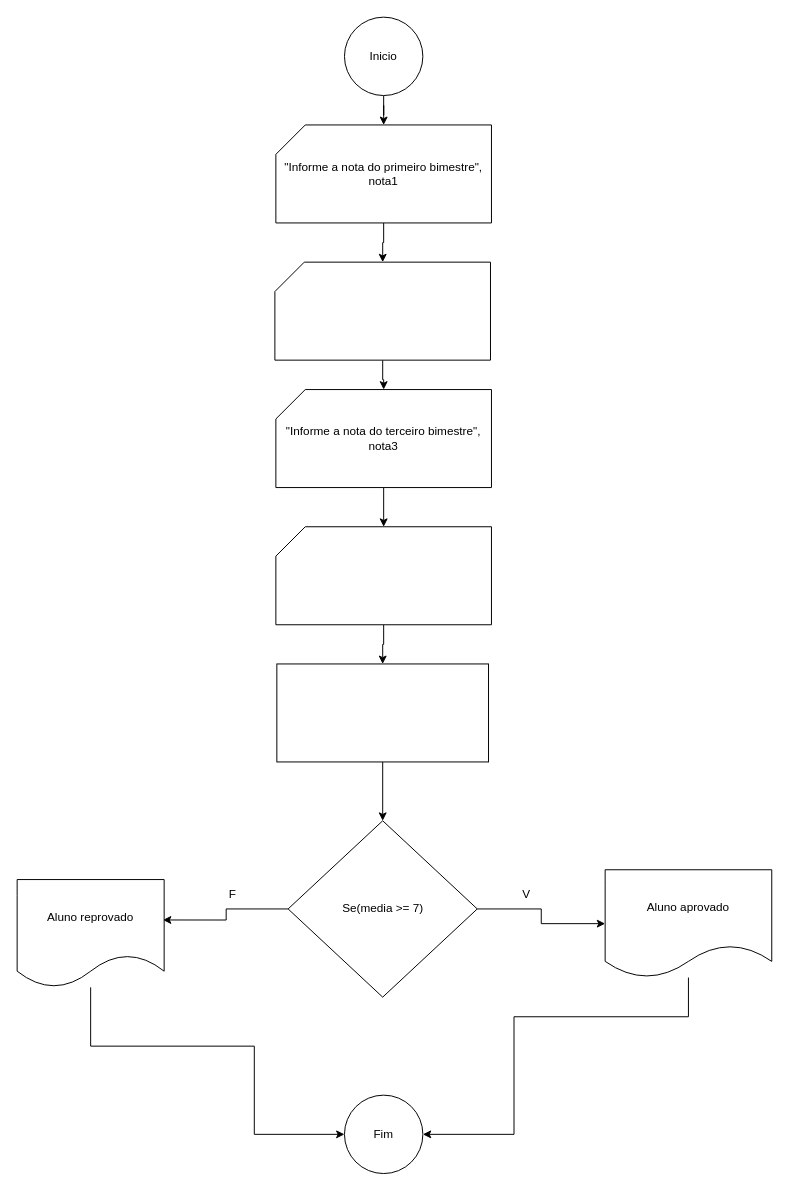
This 789x1191 diagram has some shape labels left out. The shapes that lost their labels are listed below. From the top down, each one's centre as x and y in pixels, then its label:
(x=382, y=310): "Informe a nota do segundo bimestre", nota2
(x=383, y=575): "Informe a nota do quarto bimestre", nota4
(x=382, y=712): media = (nota1+nota2+nota3+nota4)/4;
